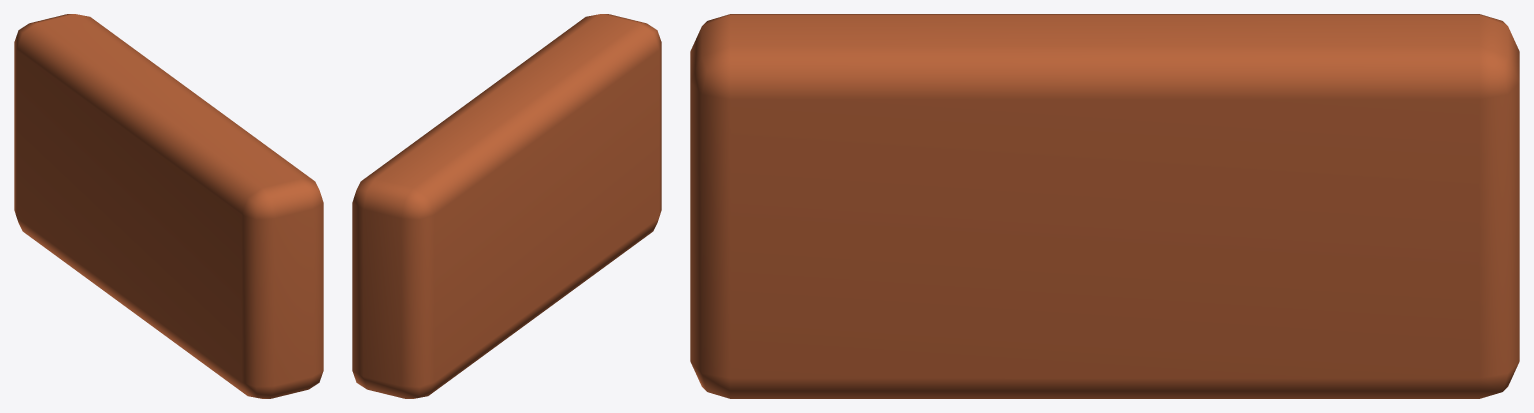
File: SM_brick_01_L.glb
The picture shows the model from 3 angles, left to right: view 1: azimuth 30°, elevation 25°; view 2: azimuth 150°, elevation 25°; view 3: azimuth 270°, elevation 25°; orthographic projection. The views are drawn at different scales.
Visible parts, largest first — view 1: SM_brick_01_L; view 2: SM_brick_01_L; view 3: SM_brick_01_L.
Part boxes in pixels (left/top/right/bottom): SM_brick_01_L: left=14, top=14, right=323, bottom=398; SM_brick_01_L: left=352, top=14, right=661, bottom=398; SM_brick_01_L: left=690, top=14, right=1519, bottom=398.
Bounding box in the file's own units: 0.0761 × 0.1925 × 0.4116.
Materials: 1 (1 with a texture image).
